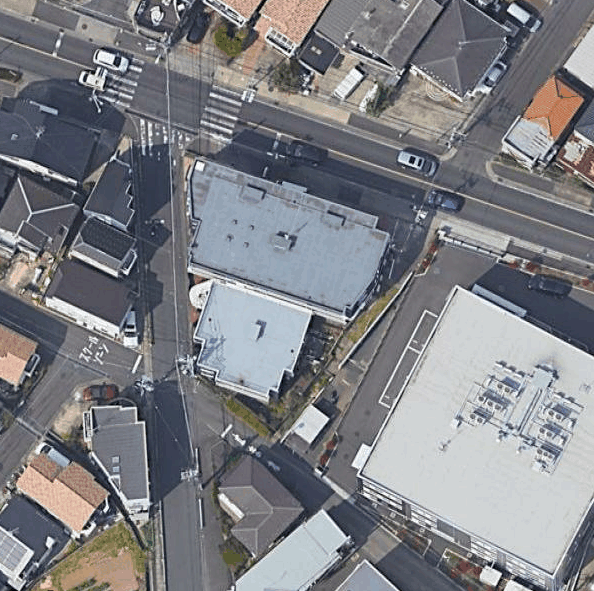facility: (445, 339, 593, 475)
